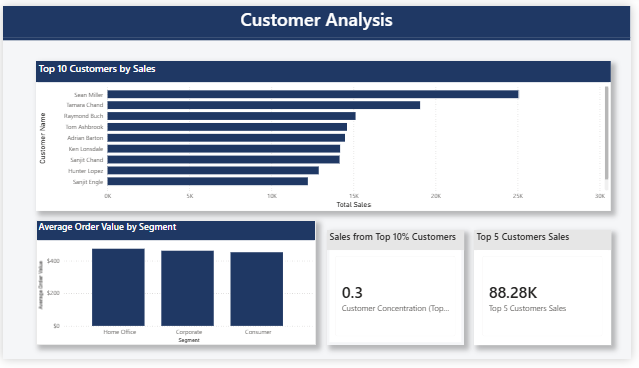

This screenshot's page, from the dashboard's own definition file:
{"tool":"powerbi","page":{"name":"Customer Analysis","canvas":[1280,720],"ordinal":2},"visuals":[{"type":"clusteredBarChart","title":"Top 10 Customers by Sales","fields":{"Category":["Dim_Customer.Customer Name"],"Y":["_Measures.Total Sales"]},"box":[67.3,112.2,1173.5,306.1],"z":0},{"type":"clusteredColumnChart","fields":{"Category":["Dim_Customer.Segment"],"Y":["_Measures.Average Order Value"]},"box":[67.3,436.7,571.4,255.1],"z":1000},{"type":"cardVisual","title":"Sales from Top 10% Customers","fields":{"Data":["_Measures.Customer Concentration (Top 10%)"]},"box":[661.2,457.1,279.6,234.7],"z":2000},{"type":"cardVisual","title":"Top 5 Customers Sales","fields":{"Data":["_Measures.Top 5 Customers Sales"]},"box":[961.2,457.1,279.6,234.7],"z":3000},{"type":"shape","title":"Customer Analysis","box":[0,0,1280,70],"z":4000}]}

Visuals, with their boxes in screenshot pixels (x1, y1, x2, y2), scaled from the page's 1280x720 canvas onto the 639x368 screenshot:
"Top 10 Customers by Sales" clusteredBarChart: l=34, t=57, r=619, b=214
clusteredColumnChart - Dim_Customer.Segment x _Measures.Average Order Value: l=34, t=223, r=319, b=354
"Sales from Top 10% Customers" cardVisual: l=330, t=234, r=470, b=354
"Top 5 Customers Sales" cardVisual: l=480, t=234, r=619, b=354
"Customer Analysis" shape: l=0, t=0, r=638, b=36
